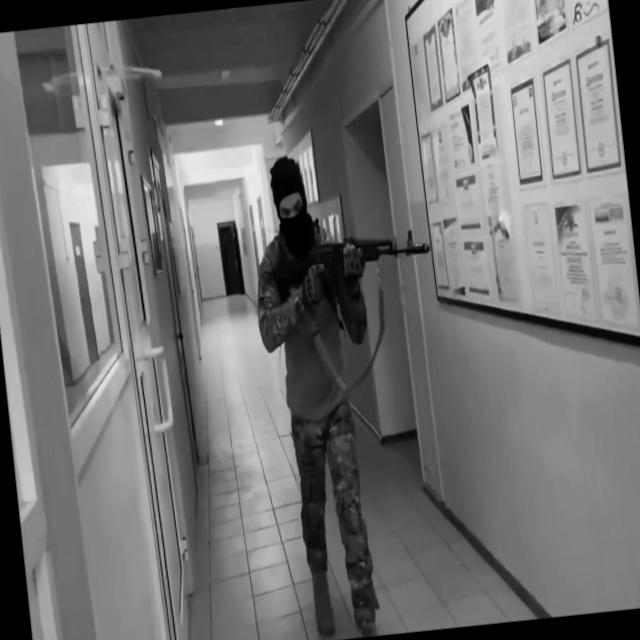gun: (270, 223, 440, 354)
person: (242, 145, 403, 640)
person with a gun: (242, 135, 472, 640)
